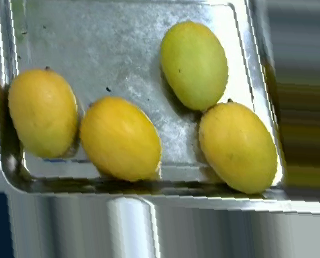Mango: (198, 100, 277, 192), (82, 97, 159, 181), (8, 68, 78, 156), (162, 20, 227, 109)
